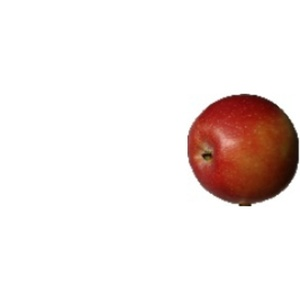maçã braeburn: (186, 92, 300, 202)
